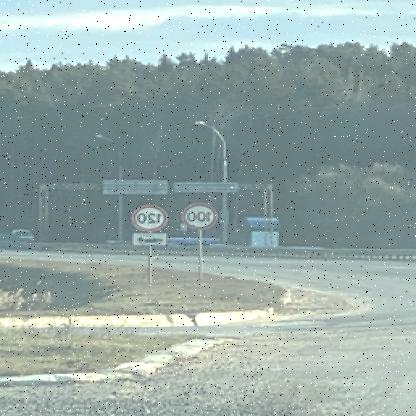speedlimit: (134, 204, 170, 230), (186, 201, 219, 227)
